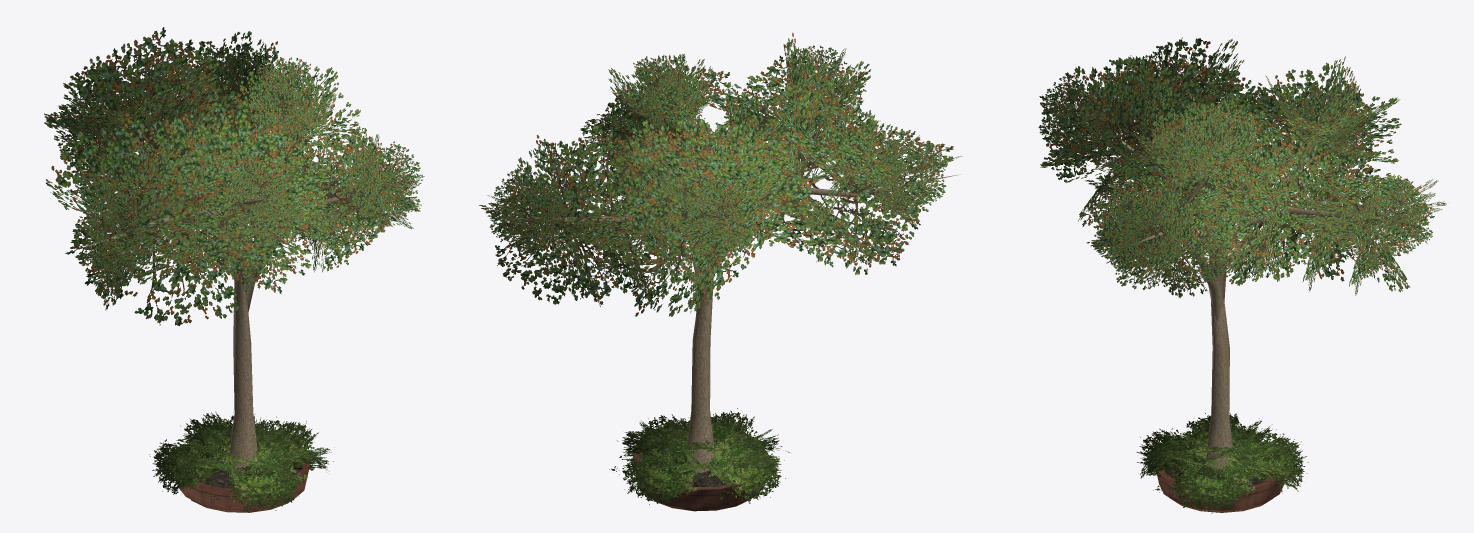
The model's file is mun_all_imprv_planter_s04_l0.fbx.
The picture shows the model from 3 angles, left to right: view 1: azimuth 30°, elevation 25°; view 2: azimuth 150°, elevation 25°; view 3: azimuth 270°, elevation 25°; orthographic projection. The views are drawn at different scales.
Parts seen in each view (by area): view 1: mesh_node; view 2: mesh_node; view 3: mesh_node.
Boxes of the visible parts, left/top/right/bottom form: mesh_node: left=44, top=27, right=424, bottom=512; mesh_node: left=479, top=33, right=962, bottom=511; mesh_node: left=1038, top=37, right=1446, bottom=513.
Bounding box in the file's own units: 14.96 × 16.5 × 16.14.
